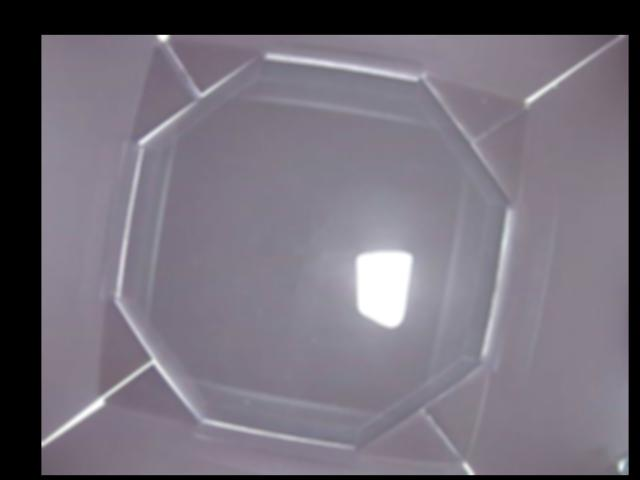Pebble: (357, 249, 409, 328)
